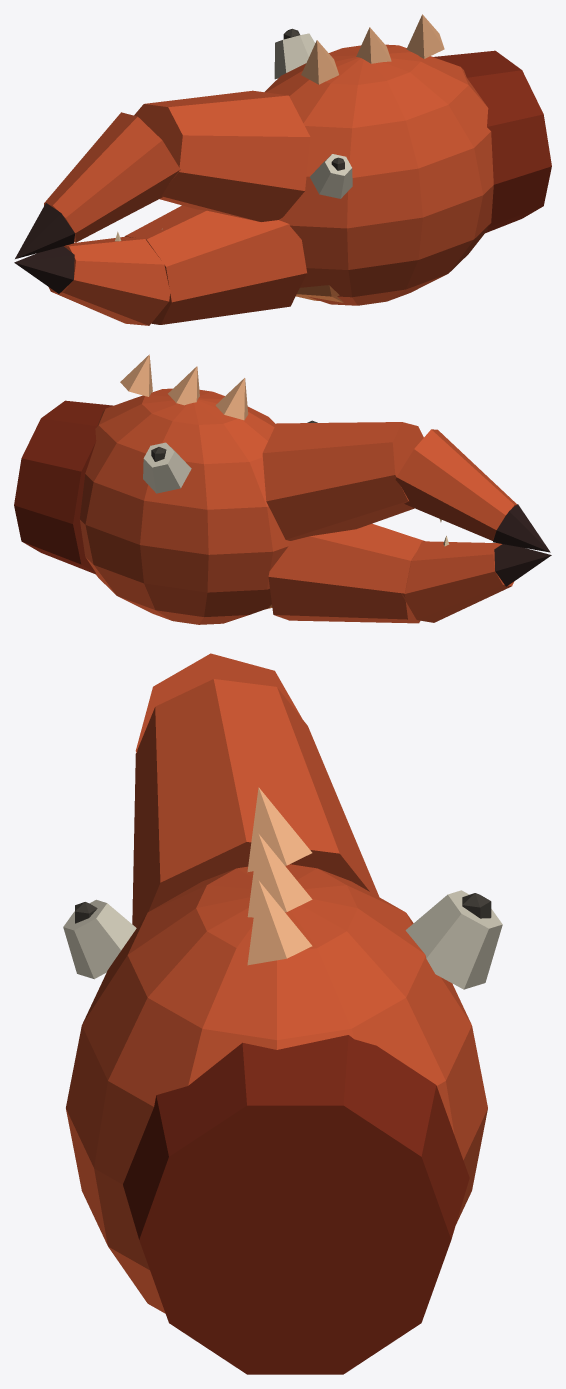
The model's file is clawfolk_claw_r.glb.
The picture shows the model from 3 angles, top to bottom: view 1: azimuth 30°, elevation 25°; view 2: azimuth 150°, elevation 25°; view 3: azimuth 270°, elevation 25°; orthographic projection. The views are drawn at different scales.
Visible parts, largest first — view 1: clawfolk_claw_r; view 2: clawfolk_claw_r; view 3: clawfolk_claw_r.
Part boxes in pixels (x1,y1,x2,y2): clawfolk_claw_r: (14, 14, 551, 325); clawfolk_claw_r: (14, 354, 551, 624); clawfolk_claw_r: (63, 653, 502, 1374).
Bounding box in the file's own units: 1.19 × 0.59 × 0.4788.
